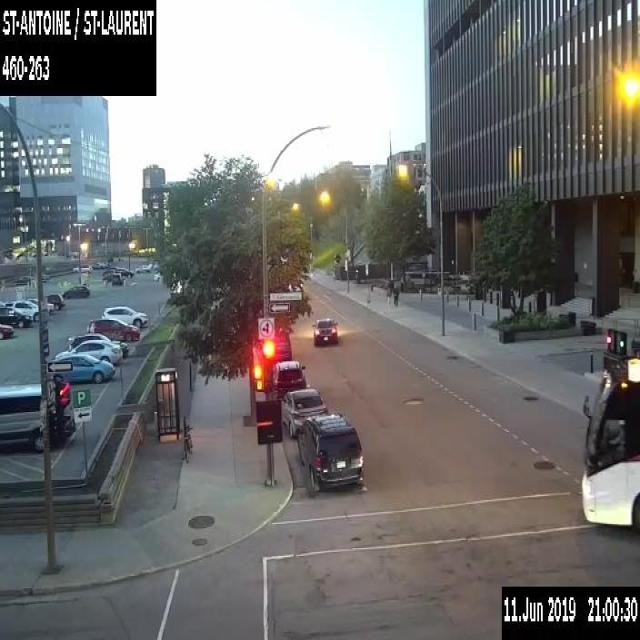bus: (578, 356, 639, 529)
construction: (255, 397, 282, 486)
pedestrian: (385, 286, 392, 308), (392, 283, 398, 305)
vehicle: (295, 412, 363, 496), (0, 380, 75, 451), (281, 387, 328, 438), (51, 352, 115, 383), (55, 338, 122, 364), (67, 332, 128, 356), (272, 360, 306, 397), (87, 318, 139, 341), (101, 304, 148, 328), (0, 300, 38, 321), (311, 316, 337, 344), (270, 329, 292, 360), (0, 306, 32, 326), (26, 297, 53, 313), (61, 284, 89, 298), (42, 292, 65, 309), (115, 266, 134, 277), (0, 322, 13, 338), (112, 272, 125, 284), (72, 263, 91, 271), (134, 264, 150, 272), (102, 268, 115, 276), (91, 261, 104, 268), (102, 273, 112, 281), (153, 269, 160, 280), (101, 260, 109, 266), (107, 265, 118, 269)
